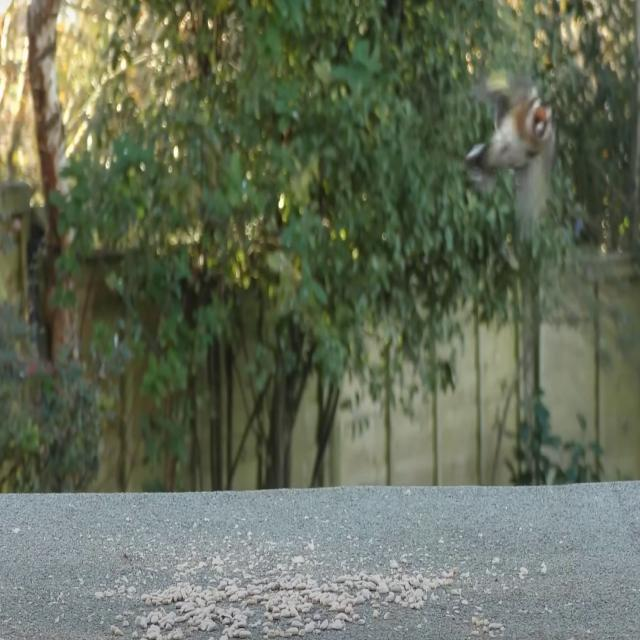beak: (535, 119, 544, 134)
bird: (453, 62, 554, 224)
